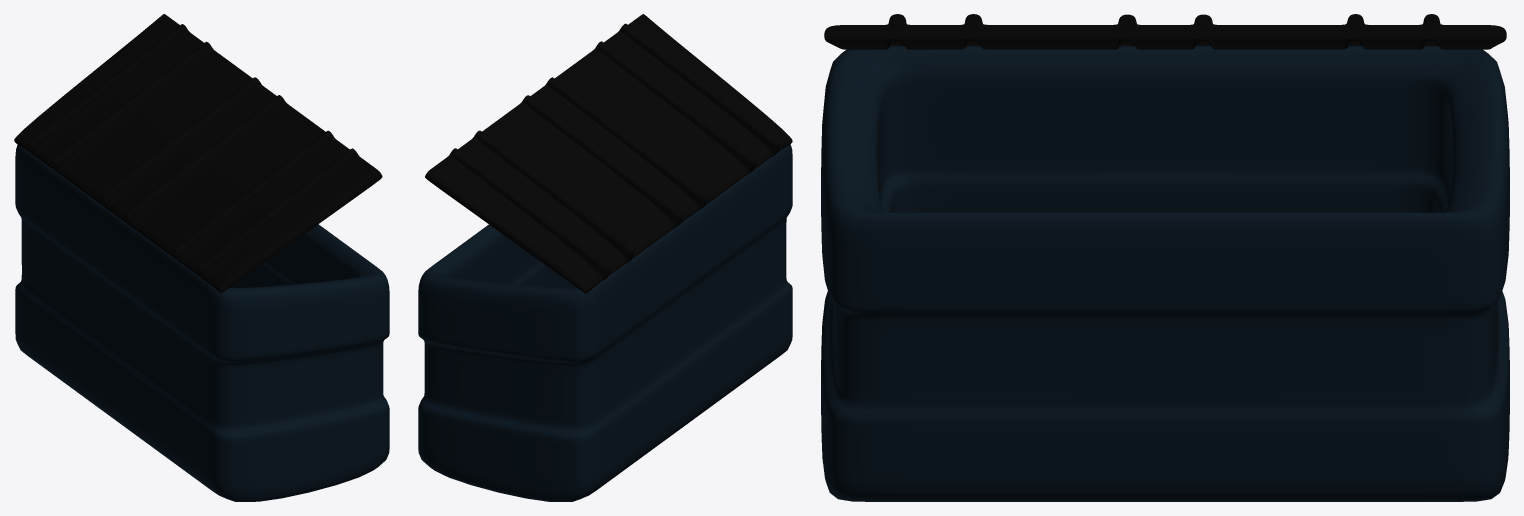
File: Container.fbx
The picture shows the model from 3 angles, left to right: view 1: azimuth 30°, elevation 25°; view 2: azimuth 150°, elevation 25°; view 3: azimuth 270°, elevation 25°; orthographic projection. The views are drawn at different scales.
Parts seen in each view (by area): view 1: Contaianer, TapaConrtainer; view 2: Contaianer, TapaConrtainer; view 3: Contaianer, TapaConrtainer.
Boxes of the visible parts, x1=… form: Contaianer: x1=15, y1=144, x2=389, y2=501; TapaConrtainer: x1=14, y1=14, x2=382, y2=292; Contaianer: x1=418, y1=144, x2=792, y2=501; TapaConrtainer: x1=425, y1=14, x2=792, y2=293; Contaianer: x1=821, y1=45, x2=1509, y2=501; TapaConrtainer: x1=824, y1=14, x2=1506, y2=49.
Bounding box in the file's own units: 703 × 1195 × 1515.
